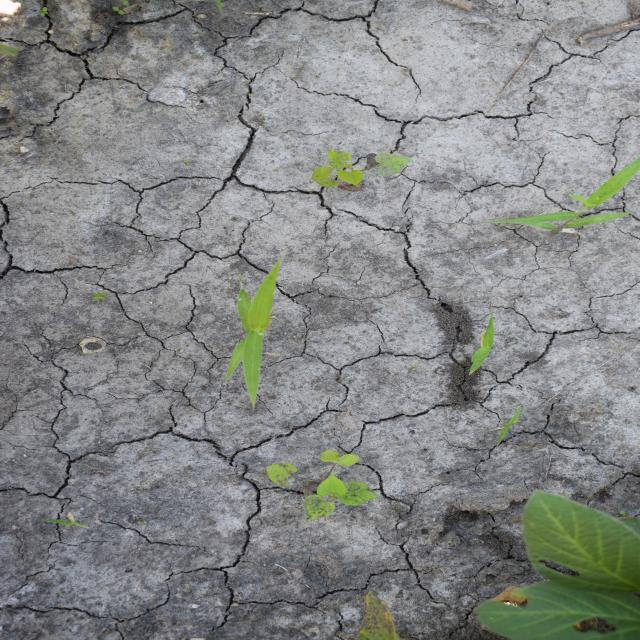MorningGlory: (263, 446, 380, 524), (310, 146, 414, 188)
